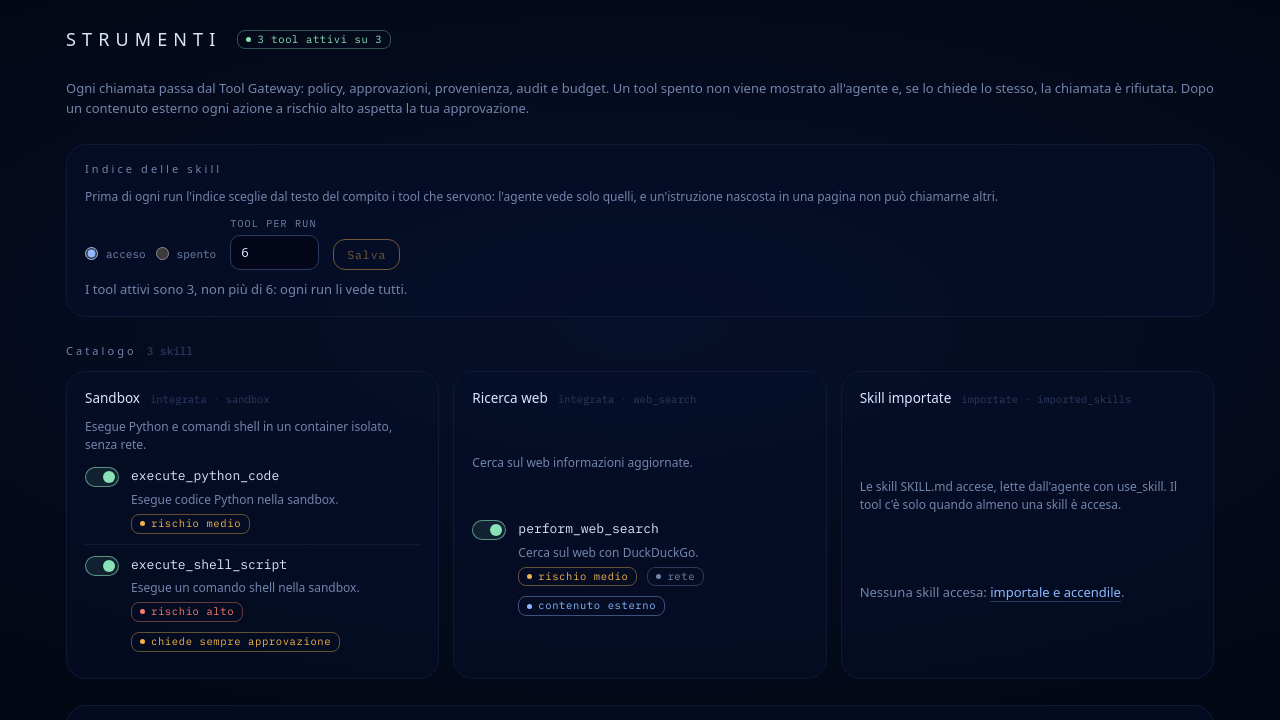
Test: Strumenti › shows the catalog and switches a tool off
expect the text "3 tool attivi su 3" is shown: met, box [238,30,391,49]
expect the text "rischio alto" is shown: met, box [131,602,243,622]
Click the switch named "execute_shell_script attivo" at (102, 566), box [85,556,119,576]
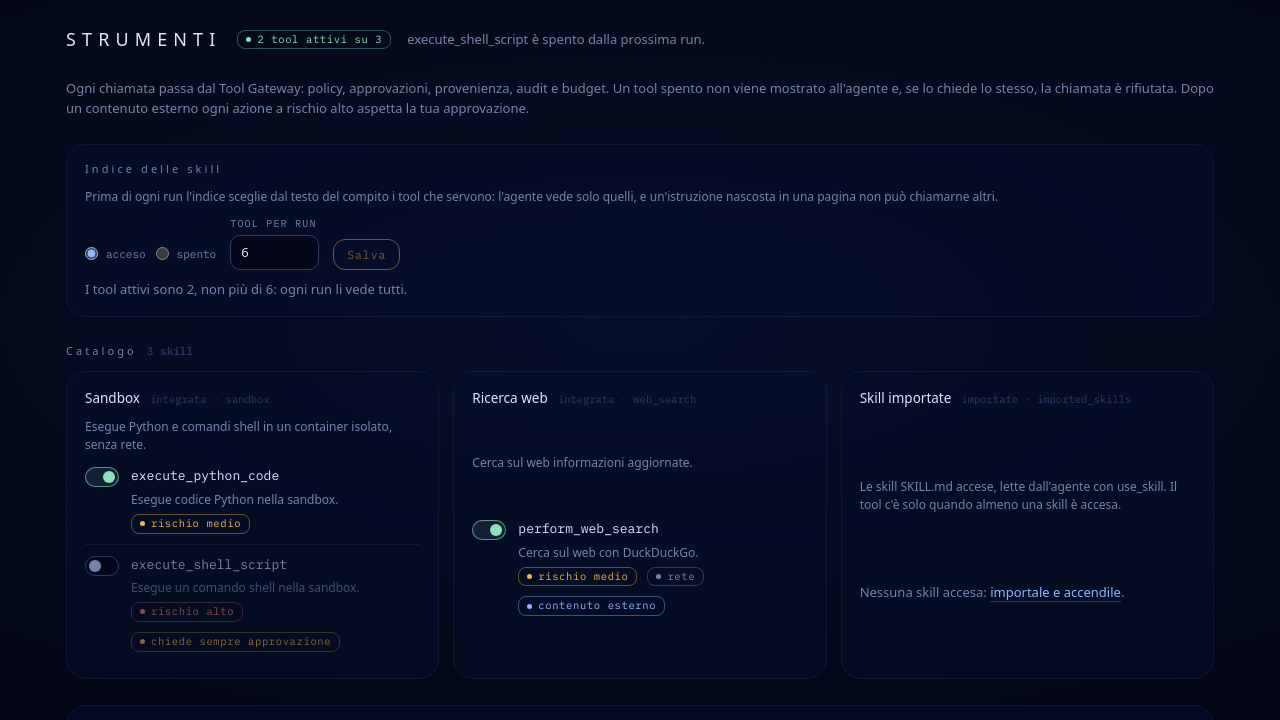
expect the switch named "execute_shell_script spento" is not checked: met, box [85,556,119,576]
expect the text "execute_shell_script è spento dalla prossima run." is shown: met, box [407,30,705,49]
expect the text "2 tool attivi su 3" is shown: met, box [238,30,391,49]
